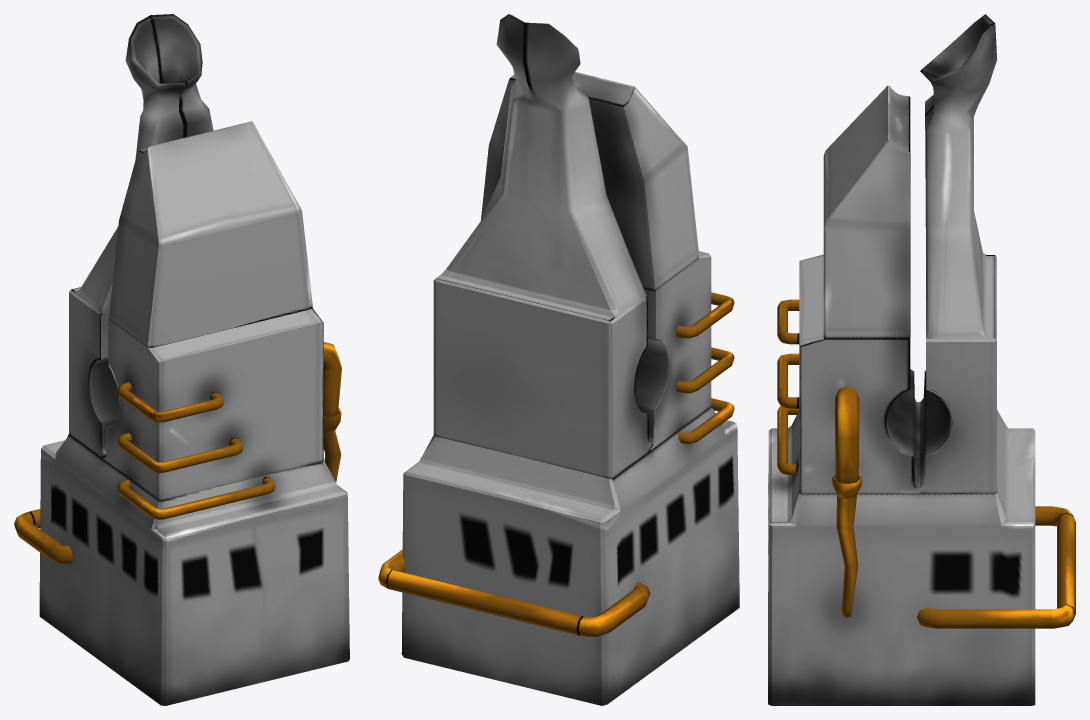
The model's file is UrbanWhole.fbx.
3 renders of one model, left to right at view 1: azimuth 30°, elevation 25°; view 2: azimuth 150°, elevation 25°; view 3: azimuth 270°, elevation 25°, orthographic. The views are drawn at different scales.
Visible parts, largest first — view 1: Full_HP; view 2: Full_HP; view 3: Full_HP.
Part boxes in pixels (box(x1,y1,x2,y2)): Full_HP: box(14, 14, 349, 705); Full_HP: box(378, 14, 739, 705); Full_HP: box(768, 14, 1075, 705).
Size of the model in its own units: 175 by 433 by 191.
